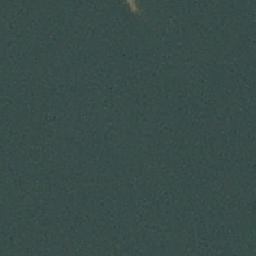debris: (126, 1, 140, 14)
